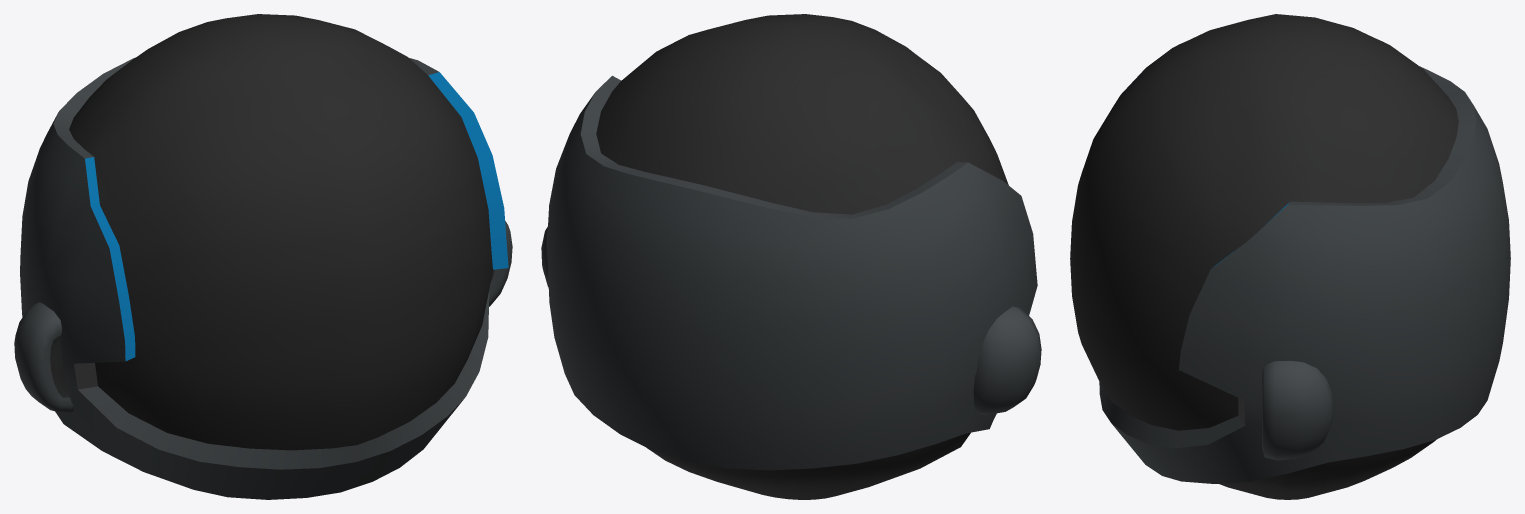
The model's file is Costume_7_02.glb.
3 views of the same model, side by side, from view 1: azimuth 30°, elevation 25°; view 2: azimuth 150°, elevation 25°; view 3: azimuth 270°, elevation 25° (orthographic).
Visible parts, largest first — view 1: Costume_7_02; view 2: Costume_7_02; view 3: Costume_7_02.
Part boxes in pixels (<box>): Costume_7_02: <box>14,14,512,499</box>; Costume_7_02: <box>541,14,1041,499</box>; Costume_7_02: <box>1070,14,1510,499</box>.
Bounding box in the file's own units: 0.6885 × 0.5966 × 0.5461.
Materials: 2 (2 with a texture image).
